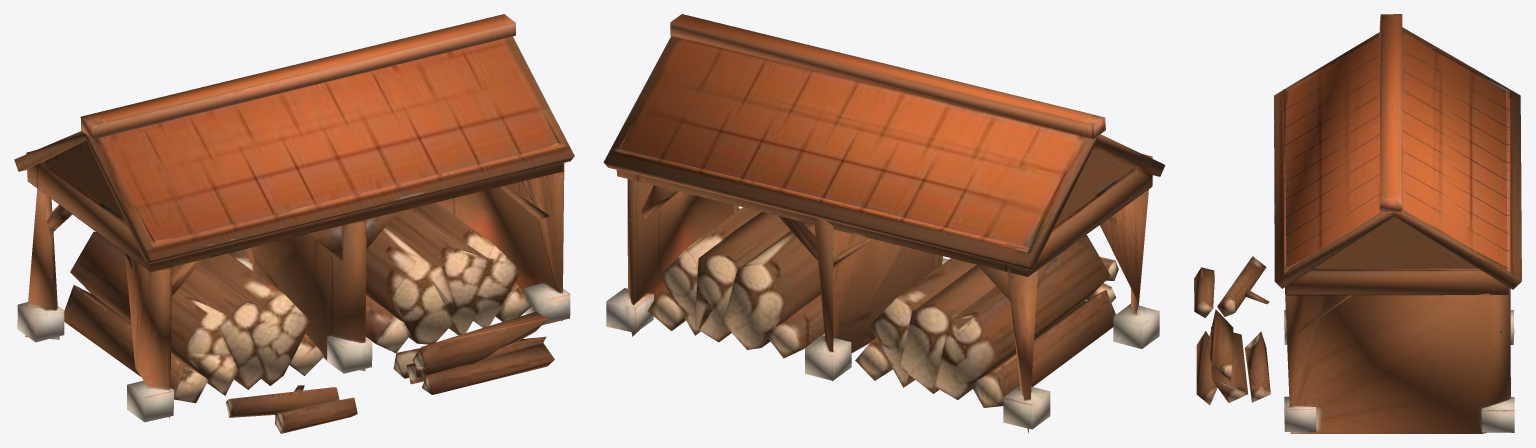
Rendered from supply22.glb.
The picture shows the model from 3 angles, left to right: view 1: azimuth 30°, elevation 25°; view 2: azimuth 150°, elevation 25°; view 3: azimuth 270°, elevation 25°; orthographic projection. The views are drawn at different scales.
Visible parts, largest first — view 1: supply22; view 2: supply22; view 3: supply22.
Part boxes in pixels (x1=…): supply22: x1=14, y1=14, x2=574, y2=433; supply22: x1=603, y1=14, x2=1165, y2=433; supply22: x1=1194, y1=14, x2=1521, y2=433.
Size of the model in its own units: 1.9 by 1.13 by 1.41.
Materials: 1 (1 with a texture image).
